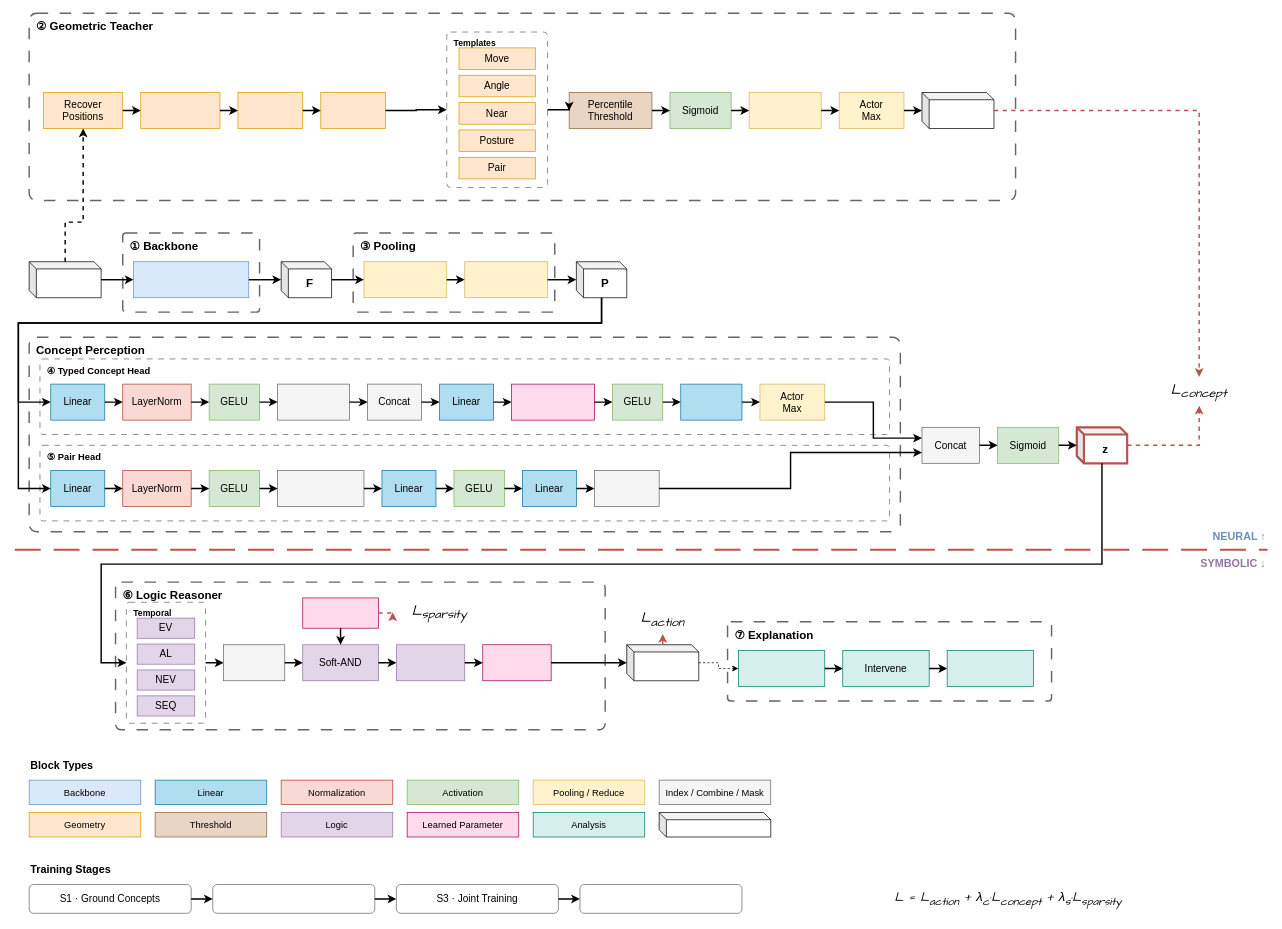
The diagram is 1282 pixels wide and 929 high, and some of its shapes have lost their labels. The shapes that lost their labels are listed below. From the top down, each one's centre as x and y in pixels, then its label:
(x=180, y=110): Temporal Smoothing
(x=270, y=110): Velocity
(x=353, y=110): Body Frame
(x=784, y=110): Segment Top-k
(x=957, y=110): y teacher
(x=64, y=279): Skeleton
(x=191, y=279): Hyper-GCN l1 – l9
(x=405, y=279): Part Pooling
(x=506, y=279): Segment Pooling
(x=313, y=401): Argument Gather
(x=552, y=401): + Predicate Embedding
(x=711, y=401): Readout
(x=320, y=488): Sum ‖ |Diff|
(x=626, y=488): Pair Mask
(x=340, y=612): Rule Masks
(x=254, y=662): Literals
(x=430, y=662): Soft-OR
(x=516, y=662): Logit Scale
(x=662, y=662): Action logits
(x=781, y=668): Explain
(x=990, y=668): Faithfulness
(x=714, y=824): Tensor
(x=293, y=898): S2 · Learn Rules
(x=660, y=898): S4 · Fine-tune
